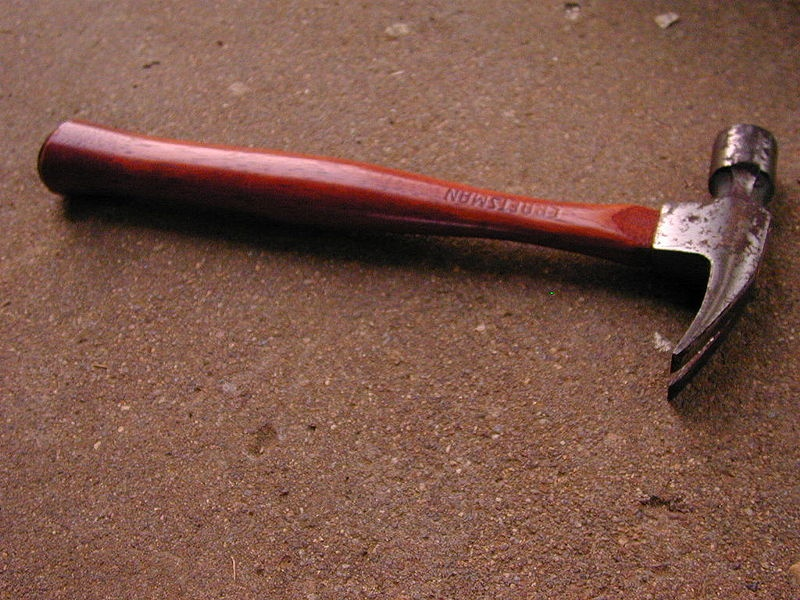hammer: (46, 118, 782, 405)
